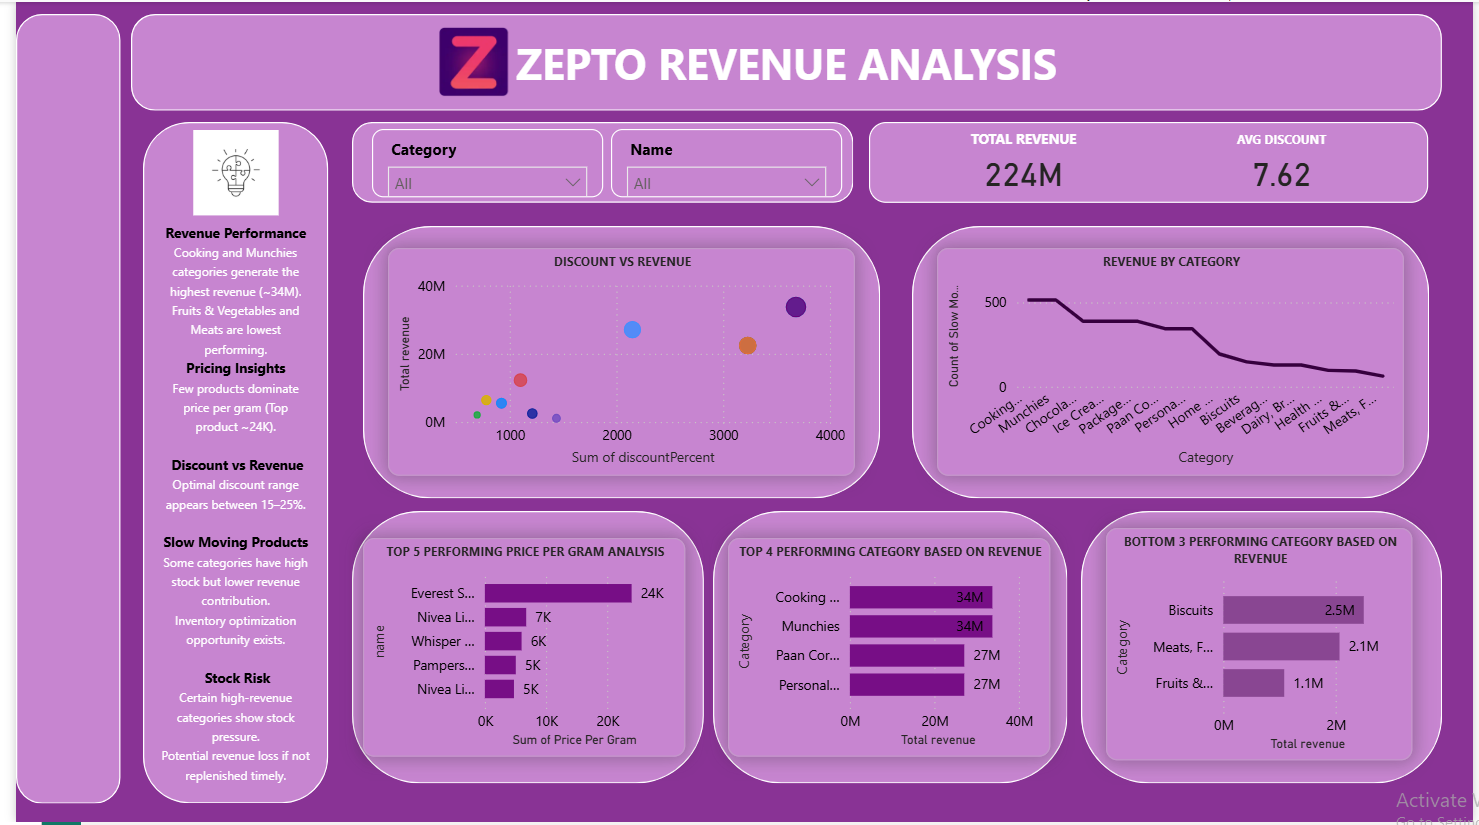

This screenshot's page, from the dashboard's own definition file:
{"tool":"powerbi","page":{"name":"Page 1","canvas":[1280,720],"ordinal":0},"visuals":[{"type":"textbox","box":[749.2,105.7,491.3,70.9],"z":0},{"type":"card","title":"TOTAL REVENUE","fields":{"Values":["zepto_v2.Total revenue"]},"box":[774.7,111.5,220.7,60.4],"z":1000},{"type":"card","title":"AVG DISCOUNT","fields":{"Values":["zepto_v2.AVG DISCOUNT"]},"box":[995.4,112.7,231.1,59.2],"z":2000},{"type":"shape","box":[101.1,10.5,1151.1,84.8],"z":3000},{"type":"shape","box":[0,10.5,91.8,693.4],"z":4000},{"type":"shape","box":[111.5,105.7,162.6,598.2],"z":4001},{"type":"shape","box":[295,105.7,440.2,70.9],"z":4002},{"type":"shape","box":[304.3,196.3,454.2,239.3],"z":4003},{"type":"shape","box":[786.4,196.3,454.2,239.3],"z":4004},{"type":"shape","box":[295,447.2,309,239.3],"z":4005},{"type":"shape","box":[612.1,447.2,311.3,239.3],"z":4006},{"type":"shape","box":[935,447.2,317.1,239.3],"z":4007},{"type":"image","box":[339.2,20.9,126.6,63.9],"z":4009},{"type":"slicer","fields":{"Values":["zepto_v2.Category"]},"box":[312.5,111.5,203.3,60.4],"z":4010},{"type":"slicer","fields":{"Values":["zepto_v2.name"]},"box":[522.7,111.5,203.3,60.4],"z":4011},{"type":"barChart","title":"TOP 4 PERFORMING CATEGORY BASED ON REVENUE","fields":{"Category":["zepto_v2.Category"],"Y":["zepto_v2.Total revenue"]},"box":[624.9,470.4,283.4,191.7],"z":4012},{"type":"barChart","title":"BOTTOM 3 PERFORMING CATEGORY BASED ON REVENUE","fields":{"Category":["zepto_v2.Category"],"Y":["zepto_v2.Total revenue"]},"box":[957.1,462.3,269.5,204.4],"z":4013},{"type":"scatterChart","title":"DISCOUNT VS REVENUE","fields":{"Category":["zepto_v2.Category"],"X":["Sum(zepto_v2.discountPercent)"],"Y":["zepto_v2.Total revenue"],"Size":["Sum(zepto_v2.availableQuantity)"],"Series":["zepto_v2.Category"]},"box":[326.4,216,410,199.8],"z":4014},{"type":"clusteredBarChart","title":"TOP 5 PERFORMING  PRICE PER GRAM ANALYSIS","fields":{"Y":["Sum(zepto_v2.Price Per Gram)"],"Category":["zepto_v2.name"]},"box":[304.3,470.4,283.4,191.7],"z":4015},{"type":"lineChart","title":"REVENUE BY CATEGORY","fields":{"Category":["zepto_v2.Category"],"Y":["CountNonNull(zepto_v2.Slow Moving)"]},"box":[808.4,216,410,199.8],"z":4016},{"type":"textbox","box":[122,188.2,141.7,504.1],"z":4017},{"type":"image","box":[146.4,112.7,92.9,75.5],"z":4019}]}

Visuals, with their boxes in screenshot pixels (x1, y1, x2, y2):
textbox: (x1=885, y1=116, x2=1460, y2=199)
"TOTAL REVENUE" card: (x1=914, y1=123, x2=1173, y2=193)
"AVG DISCOUNT" card: (x1=1173, y1=124, x2=1443, y2=193)
shape: (x1=126, y1=5, x2=1473, y2=104)
shape: (x1=8, y1=5, x2=115, y2=816)
shape: (x1=138, y1=116, x2=329, y2=816)
shape: (x1=353, y1=116, x2=868, y2=199)
shape: (x1=364, y1=222, x2=895, y2=502)
shape: (x1=928, y1=222, x2=1460, y2=502)
shape: (x1=353, y1=516, x2=715, y2=796)
shape: (x1=724, y1=516, x2=1088, y2=796)
shape: (x1=1102, y1=516, x2=1473, y2=796)
image: (x1=405, y1=17, x2=553, y2=92)
slicer - zepto_v2.Category: (x1=373, y1=123, x2=611, y2=193)
slicer - zepto_v2.name: (x1=619, y1=123, x2=857, y2=193)
"TOP 4 PERFORMING CATEGORY BASED ON REVENUE" barChart: (x1=739, y1=543, x2=1071, y2=767)
"BOTTOM 3 PERFORMING CATEGORY BASED ON REVENUE" barChart: (x1=1128, y1=533, x2=1443, y2=773)
"DISCOUNT VS REVENUE" scatterChart: (x1=390, y1=245, x2=870, y2=479)
"TOP 5 PERFORMING  PRICE PER GRAM ANALYSIS" clusteredBarChart: (x1=364, y1=543, x2=696, y2=767)
"REVENUE BY CATEGORY" lineChart: (x1=954, y1=245, x2=1434, y2=479)
textbox: (x1=150, y1=213, x2=316, y2=803)
image: (x1=179, y1=124, x2=288, y2=213)
